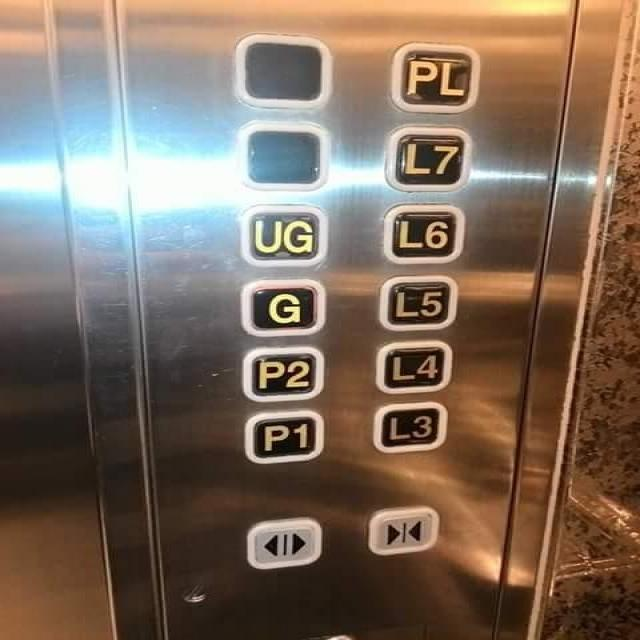G: (237, 275, 327, 338)
L3: (365, 399, 448, 455)
L4: (375, 337, 452, 395)
L5: (375, 274, 457, 332)
L6: (380, 197, 465, 267)
L7: (379, 121, 476, 193)
P1: (239, 408, 325, 465)
P2: (240, 343, 324, 404)
PL: (384, 37, 481, 116)
UG: (238, 202, 326, 268)
close: (366, 502, 438, 555)
empty: (230, 29, 334, 111), (230, 117, 334, 191)
open: (242, 514, 322, 570)
